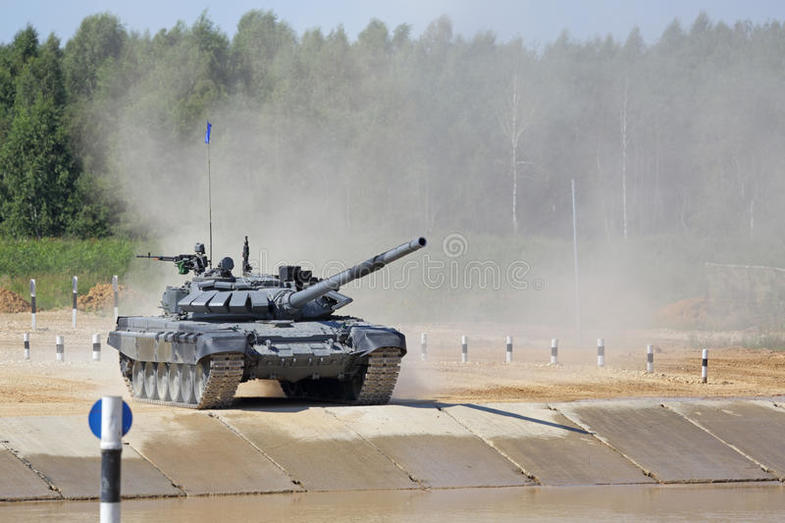t72: (104, 240, 446, 412)
